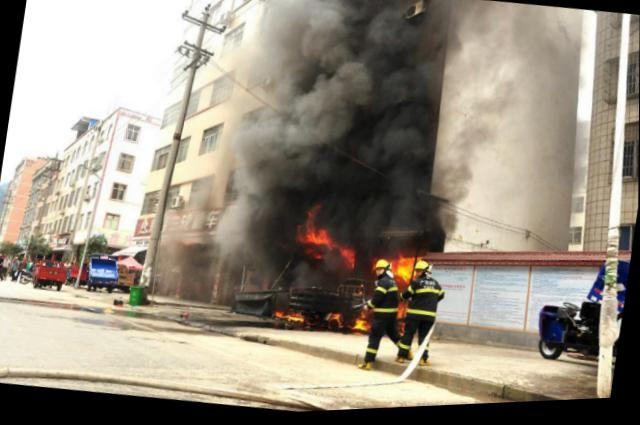fire: (388, 255, 415, 283), (297, 228, 330, 245), (275, 310, 305, 324), (336, 249, 356, 269), (351, 315, 369, 332), (305, 209, 317, 230), (331, 314, 339, 322)
